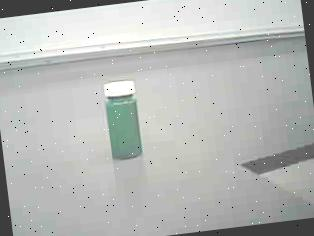Bottle C: (94, 74, 155, 170)
